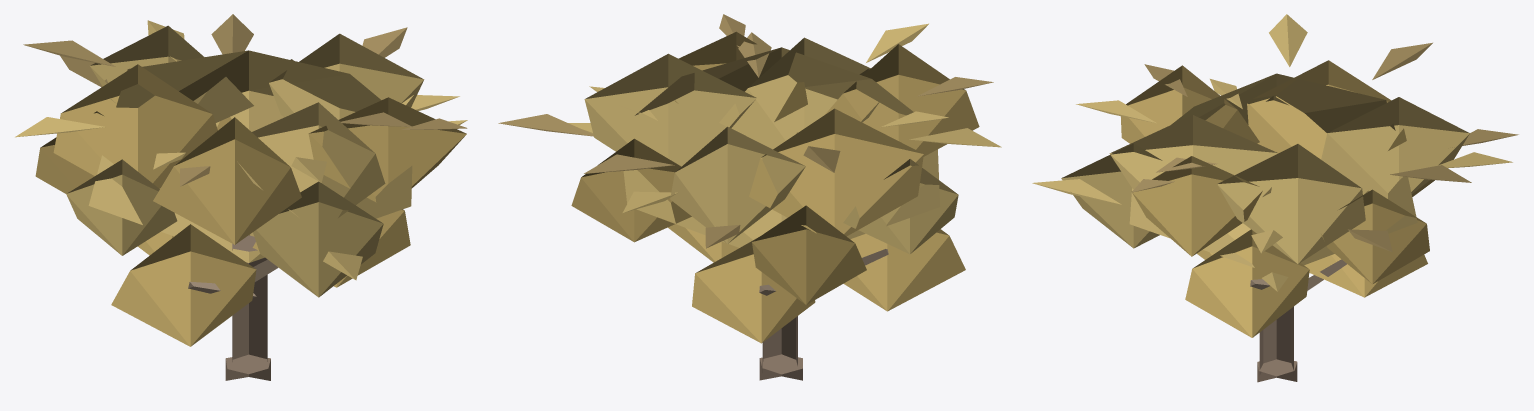
The model's file is shu.chuilui__autumn.glb.
3 renders of one model, left to right at view 1: azimuth 30°, elevation 25°; view 2: azimuth 150°, elevation 25°; view 3: azimuth 270°, elevation 25°, orthographic. The views are drawn at different scales.
Parts seen in each view (by area): view 1: shu.chuilui__autumn; view 2: shu.chuilui__autumn; view 3: shu.chuilui__autumn.
Part boxes in pixels (x1,y1,x2,y2): shu.chuilui__autumn: [15, 14, 467, 380]; shu.chuilui__autumn: [498, 14, 1001, 380]; shu.chuilui__autumn: [1032, 14, 1518, 382].
Bounding box in the file's own units: 15.32 × 10.49 × 15.84.
